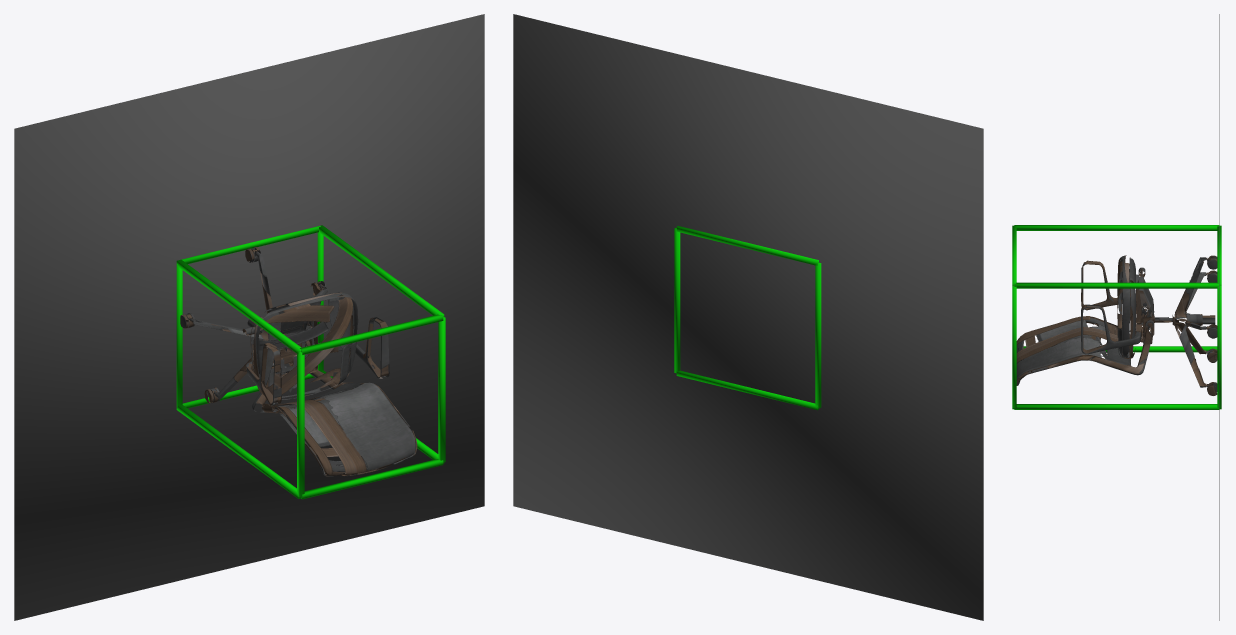
3 views of the same model, side by side, from view 1: azimuth 30°, elevation 25°; view 2: azimuth 150°, elevation 25°; view 3: azimuth 270°, elevation 25° (orthographic). The views are drawn at different scales.
Size of the model in its own units: 2 by 2 by 0.9179.
